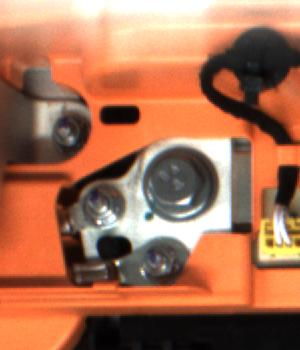nut_b: (142, 137, 218, 224)
screw_s: (136, 241, 179, 282), (81, 184, 120, 224), (50, 109, 85, 153)
